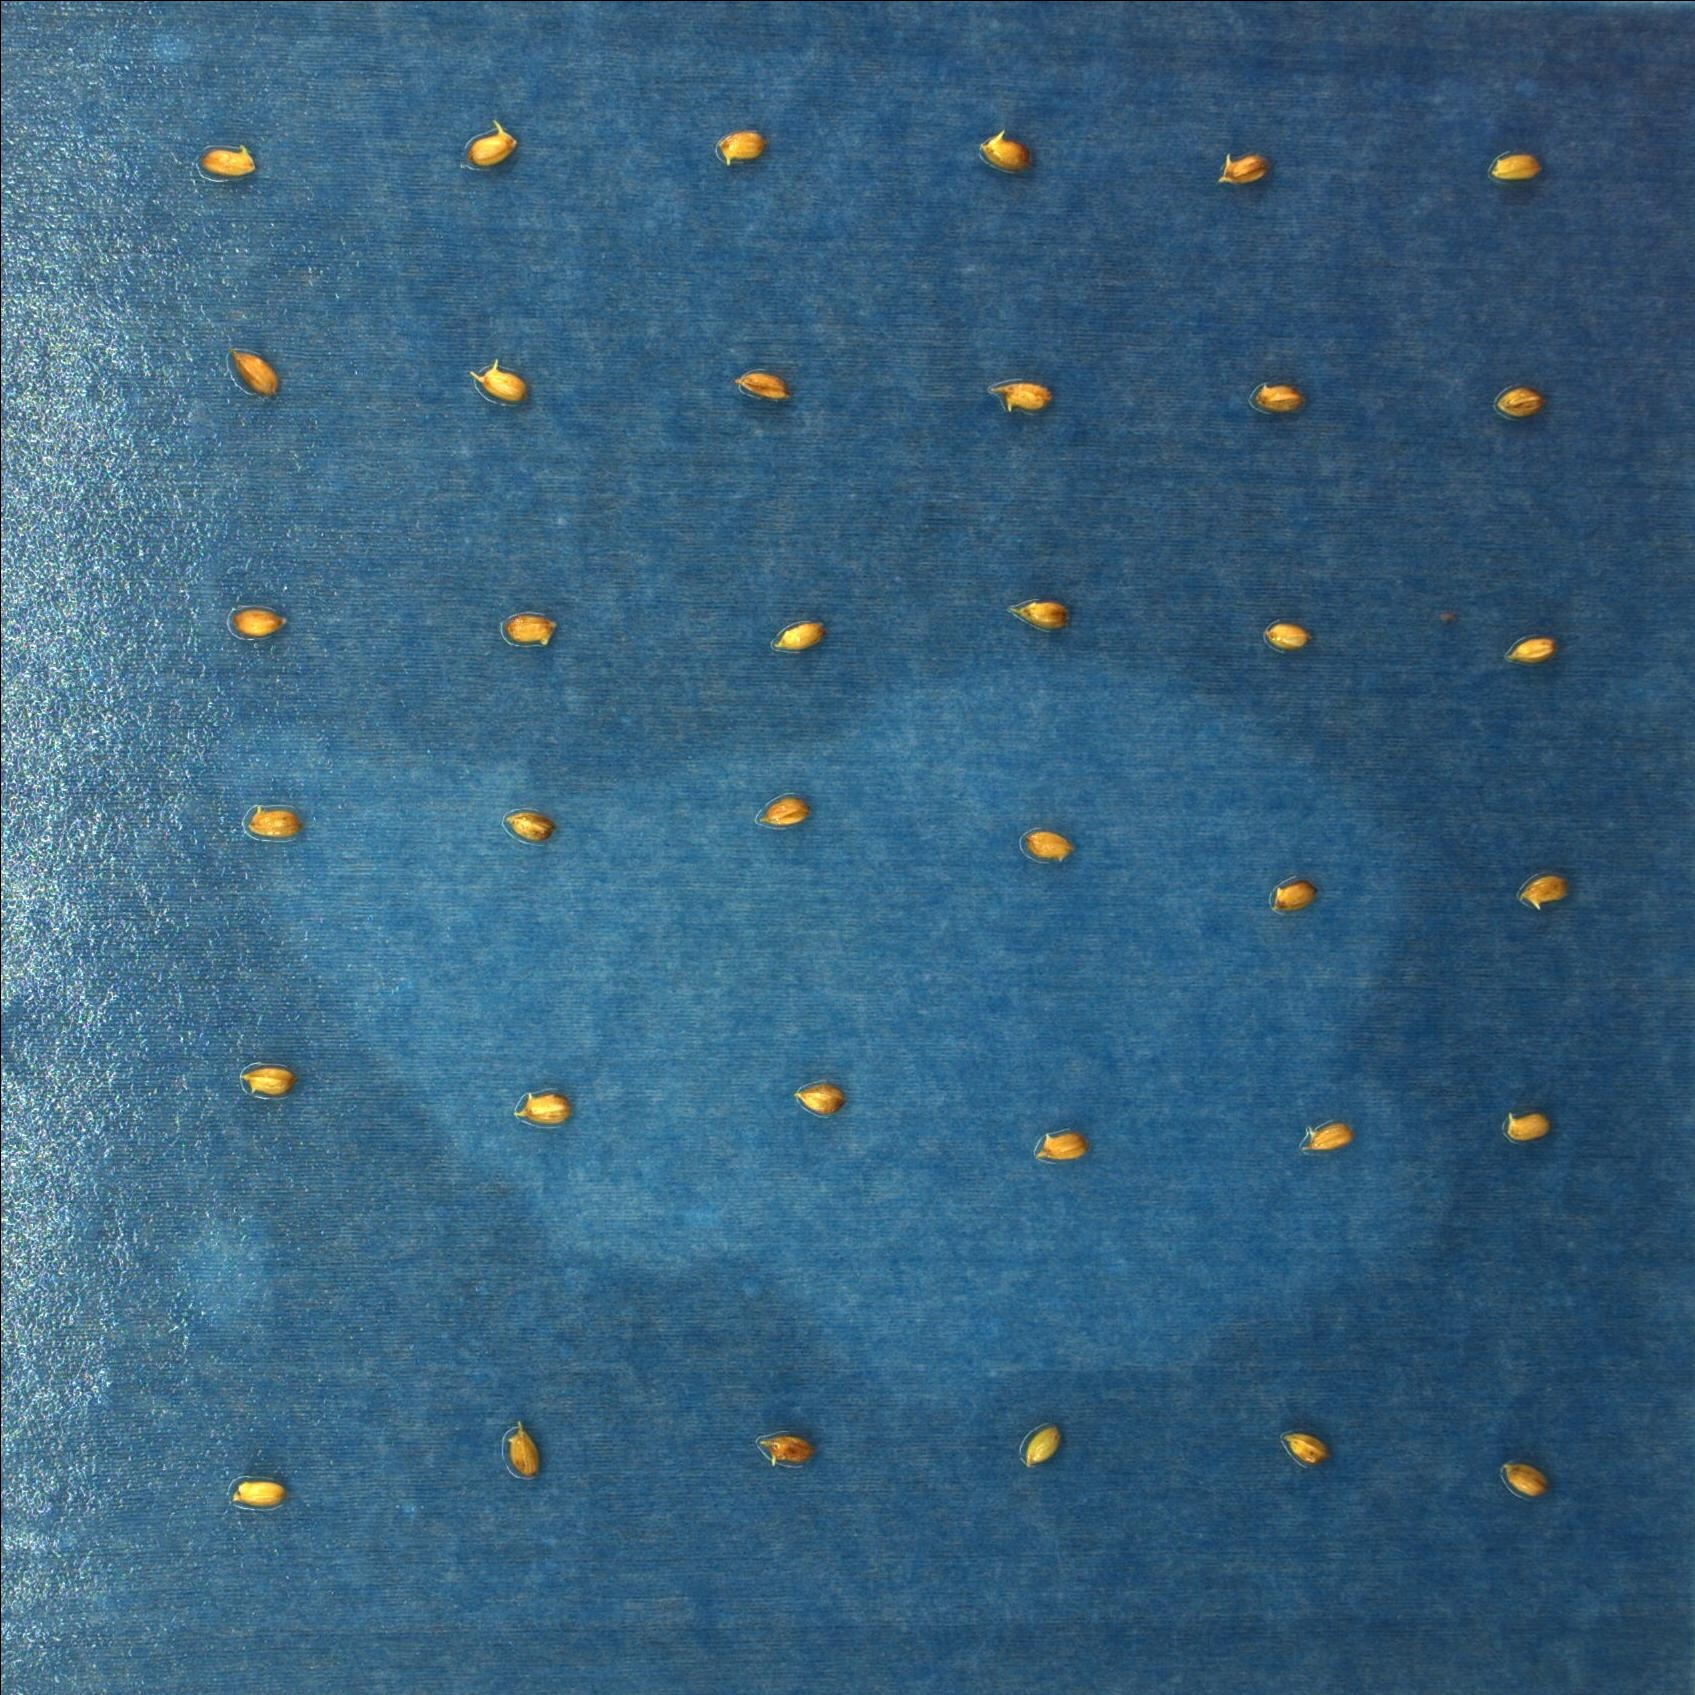not sprout: (233, 1464, 307, 1518), (459, 112, 529, 169), (230, 590, 293, 649), (222, 345, 289, 400), (477, 352, 542, 407), (501, 607, 562, 660), (515, 1090, 582, 1136), (501, 1419, 549, 1482), (712, 121, 771, 172), (762, 612, 835, 652), (197, 143, 255, 194), (248, 799, 309, 847), (1038, 1121, 1097, 1169), (795, 1077, 858, 1121), (1020, 1420, 1069, 1475), (731, 366, 792, 410), (1518, 865, 1572, 913), (973, 127, 1035, 169), (756, 1426, 820, 1467), (1256, 369, 1305, 421), (241, 1062, 298, 1105), (1028, 820, 1077, 869), (1020, 590, 1069, 638), (1504, 1105, 1558, 1149), (1218, 143, 1274, 185), (1487, 149, 1544, 189), (765, 789, 816, 830), (1498, 1464, 1555, 1501), (1273, 875, 1329, 913), (995, 376, 1052, 411), (1281, 1425, 1329, 1467), (508, 806, 560, 841), (1495, 380, 1541, 421), (1307, 1118, 1354, 1158), (1513, 632, 1562, 671), (1256, 626, 1307, 660)
